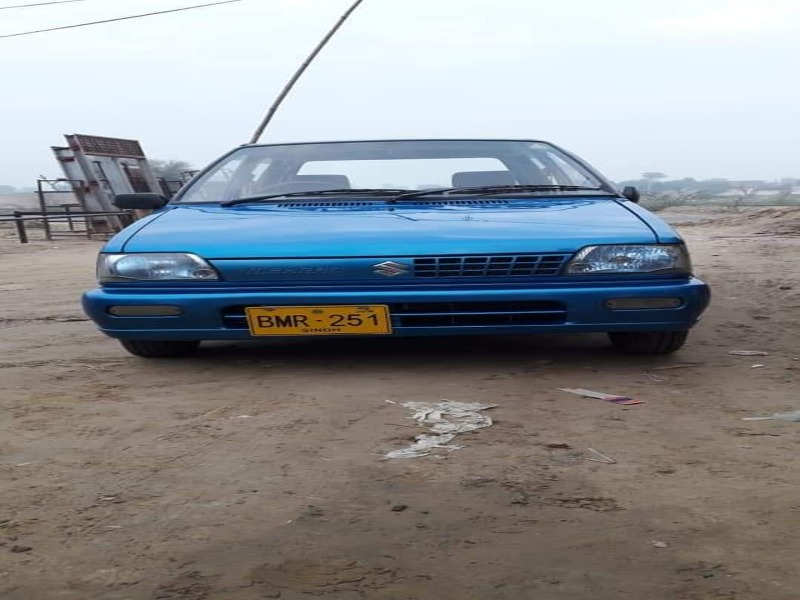License Plate: (241, 300, 396, 340)
